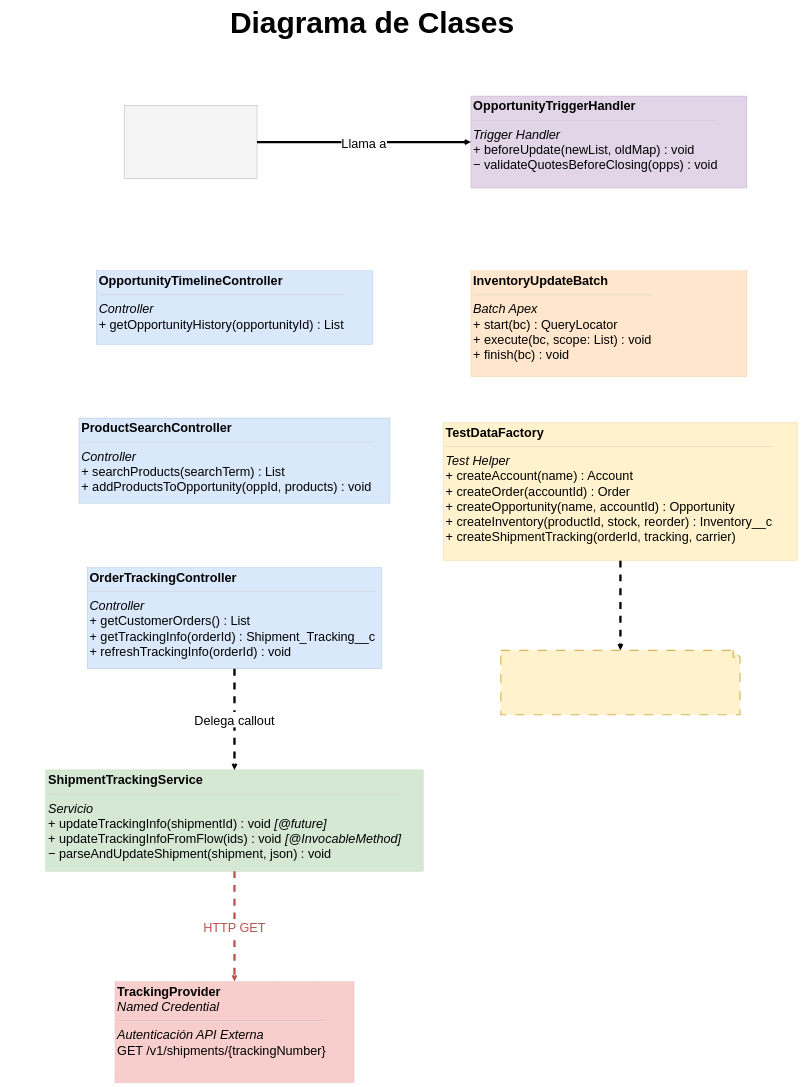
Some shapes in this 802 by 1087 pixel diagram are drawn without their labels. Here are the shapes that lost their labels. From the top down, the box of each, then its label:
(124, 105, 257, 179): OpportunityTrigger Trigger Evento: before update
(500, 650, 740, 715): Utilizada por los las clases test del proyecto para crear datos de prueba
